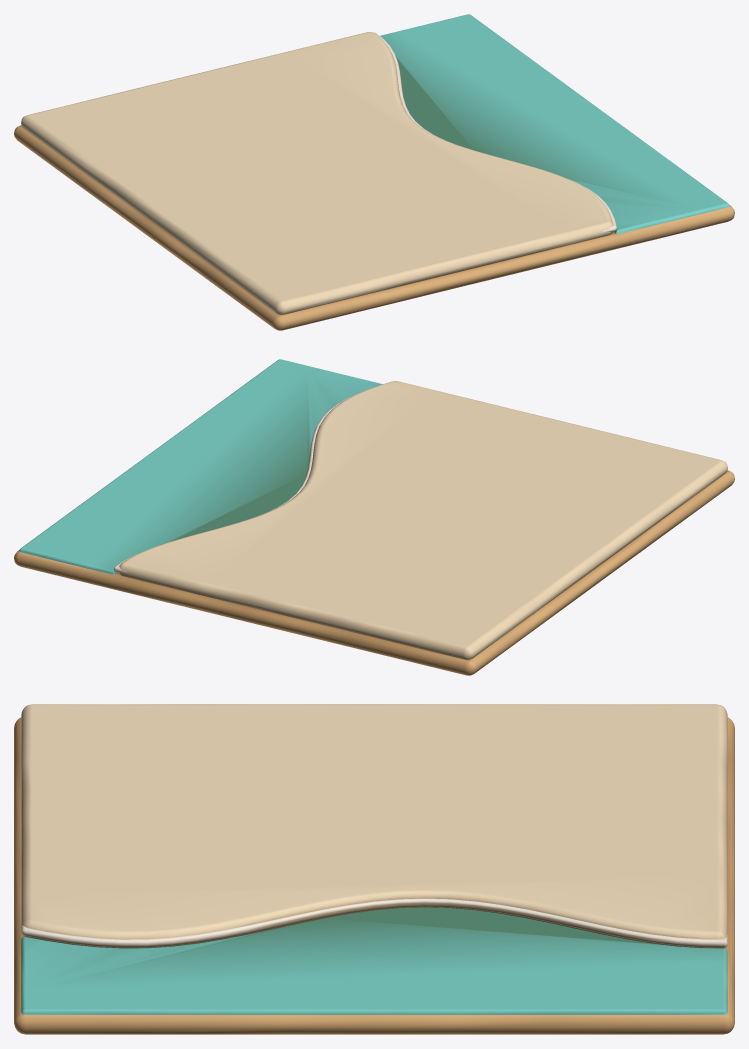
File: tile_coast_a.glb
The picture shows the model from 3 angles, top to bottom: view 1: azimuth 30°, elevation 25°; view 2: azimuth 150°, elevation 25°; view 3: azimuth 270°, elevation 25°; orthographic projection. The views are drawn at different scales.
Visible parts, largest first — view 1: sand_top, water, base, foam; view 2: sand_top, water, base; view 3: sand_top, water, base, foam.
Boxes of the visible parts, x1,y1,x2,y2 form: sand_top: (21,32,612,314); water: (380,14,729,234); base: (14,125,734,330); foam: (373,32,616,232); sand_top: (119,381,727,659); water: (19,359,382,574); base: (14,470,734,675); sand_top: (21,704,727,948); water: (21,907,727,1014); base: (14,717,734,1034); foam: (21,898,727,947).
Bounding box in the file's own units: 4 × 0.22 × 4.
